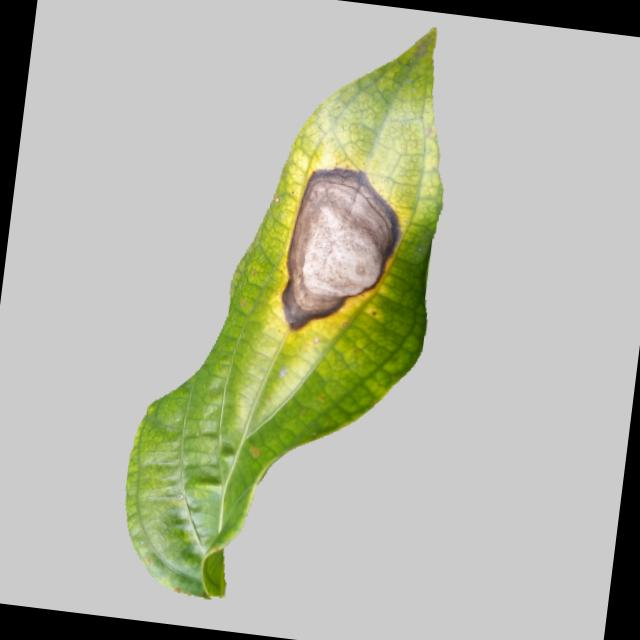leaf-blight: (104, 0, 473, 625)
